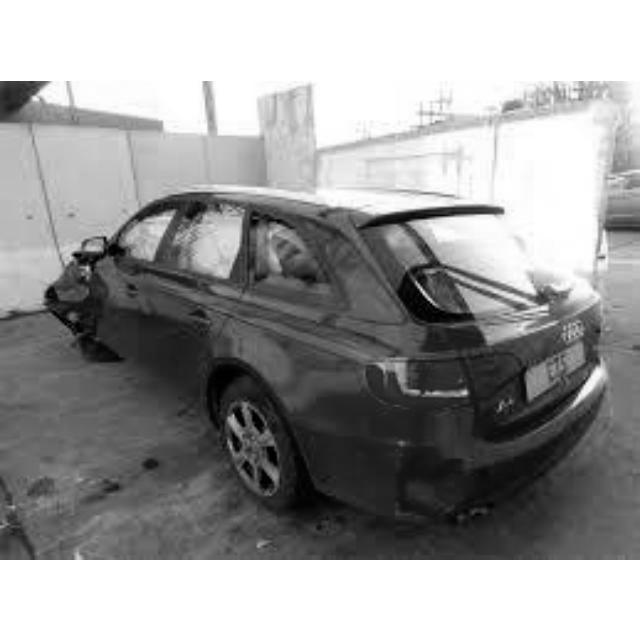rear-bumper-dent: (383, 422, 499, 515)
